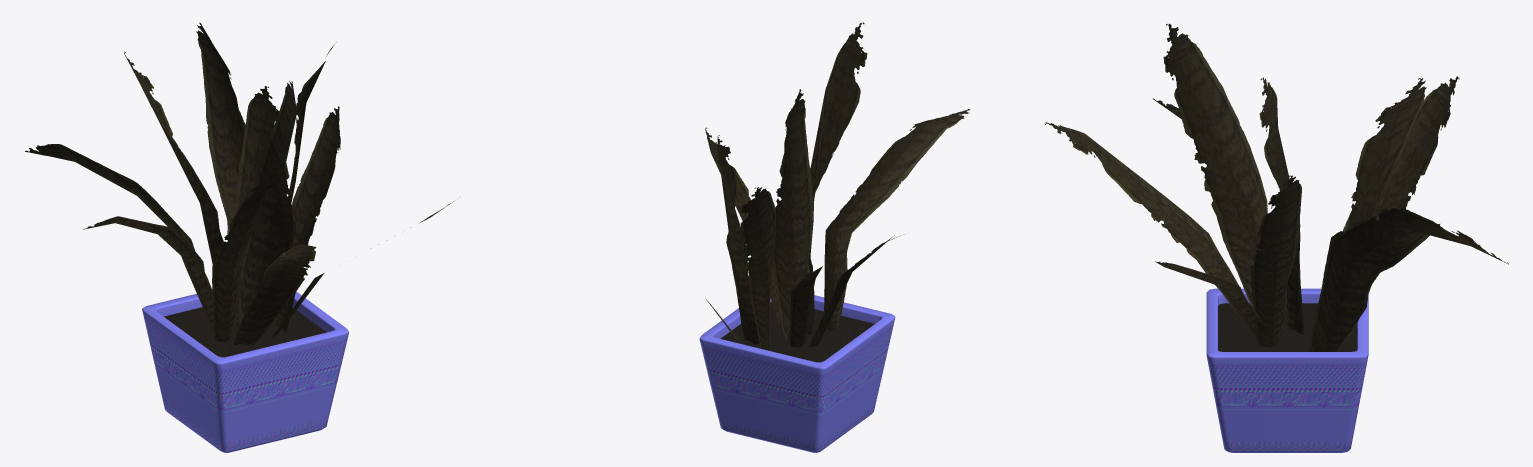
Rendered from SM_PlantB.fbx.
The picture shows the model from 3 angles, left to right: view 1: azimuth 30°, elevation 25°; view 2: azimuth 150°, elevation 25°; view 3: azimuth 270°, elevation 25°; orthographic projection. The views are drawn at different scales.
Visible parts, largest first — view 1: SM_PlantB; view 2: SM_PlantB; view 3: SM_PlantB.
Boxes of the visible parts, left/top/right/bottom form: SM_PlantB: left=25, top=22, right=453, bottom=452; SM_PlantB: left=699, top=22, right=970, bottom=452; SM_PlantB: left=1044, top=23, right=1508, bottom=452.
Bounding box in the file's own units: 94.27 × 87.64 × 94.25.
Materials: 2 (2 with a texture image).
